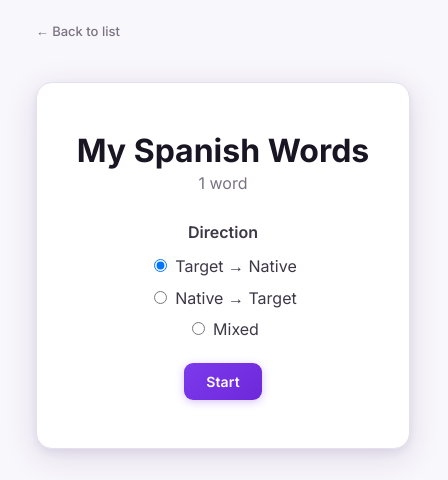
Test: PracticePage › correct answer shows Correct
Expected: the button "Start" is shown, x1=184 y1=363 x2=262 y2=400
Click the radio button labelled "Target → Native" at (161, 266), box x1=154 y1=259 x2=167 y2=272
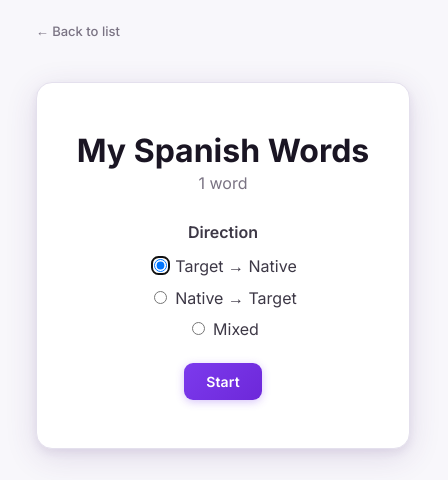
Click the button "Start" at (223, 381), box x1=184 y1=363 x2=262 y2=400
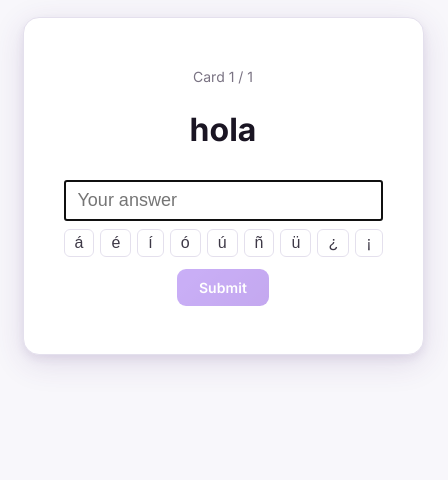
Result: the field with placeholder "Your answer" is shown
Type "hello" into the field with placeholder "Your answer" at (223, 200), box x1=64 y1=180 x2=382 y2=221
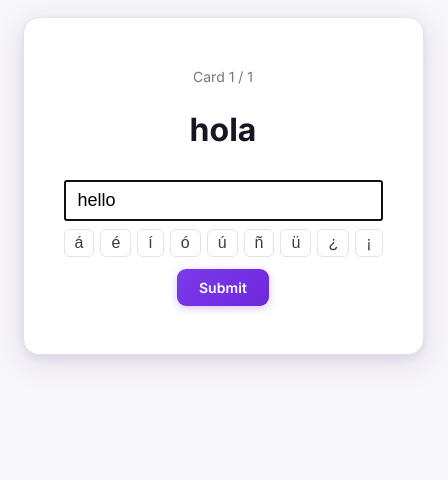
Click the button "Submit" at (223, 287), box x1=177 y1=269 x2=269 y2=306
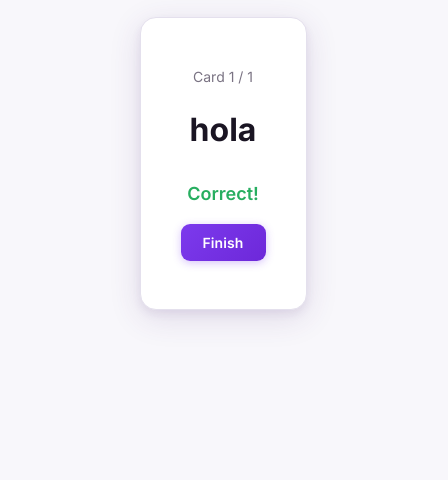
Result: the text "Correct!" is shown at x1=187 y1=183 x2=259 y2=204
